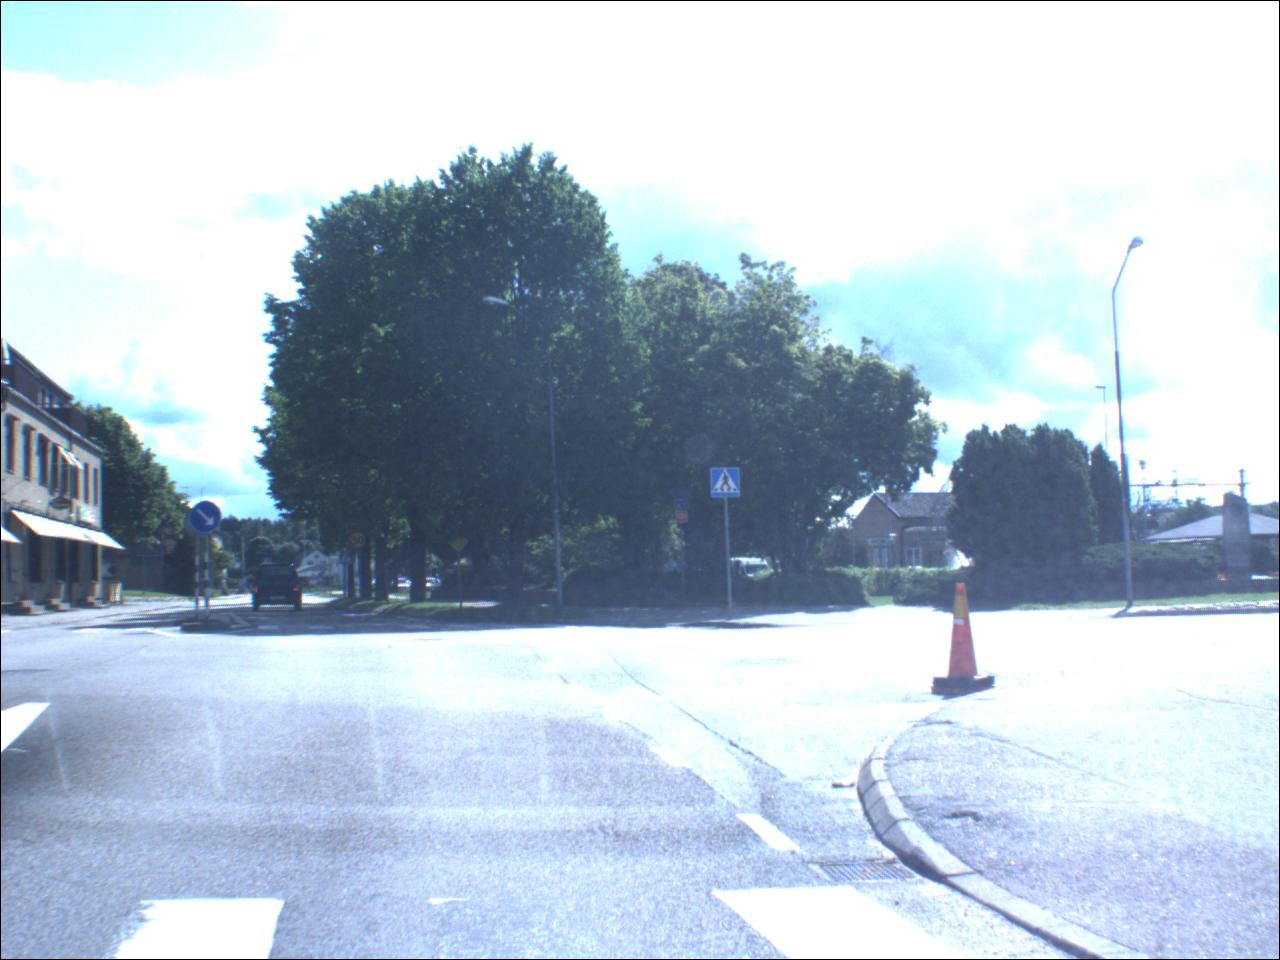50_SIGN: (350, 532, 370, 551)
PASS_RIGHT_SIDE: (191, 500, 225, 534)
PEDESTRIAN_CROSSING: (712, 470, 743, 501), (342, 553, 357, 568), (265, 560, 275, 570)
PRIORITY_ROAD: (449, 532, 471, 554)
